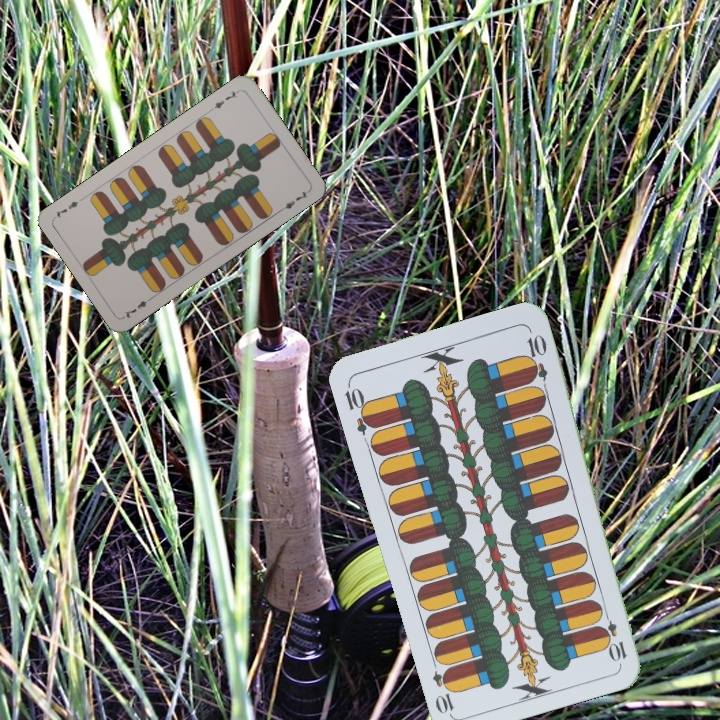E10: (340, 379, 378, 437), (598, 606, 630, 664)
E7: (120, 293, 156, 321), (206, 86, 242, 113)
